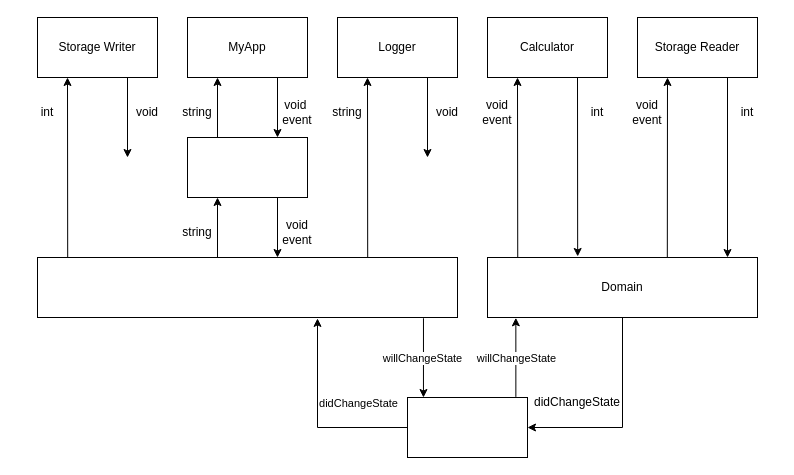
The diagram is 794 pixels wide and 475 high, and some of its shapes have lost their labels. Here are the shapes that lost their labels. From the top down, the centre of each, then its label:
At (247,167): "Window".
At (247,287): "Display".
At (467,427): "void main()".
